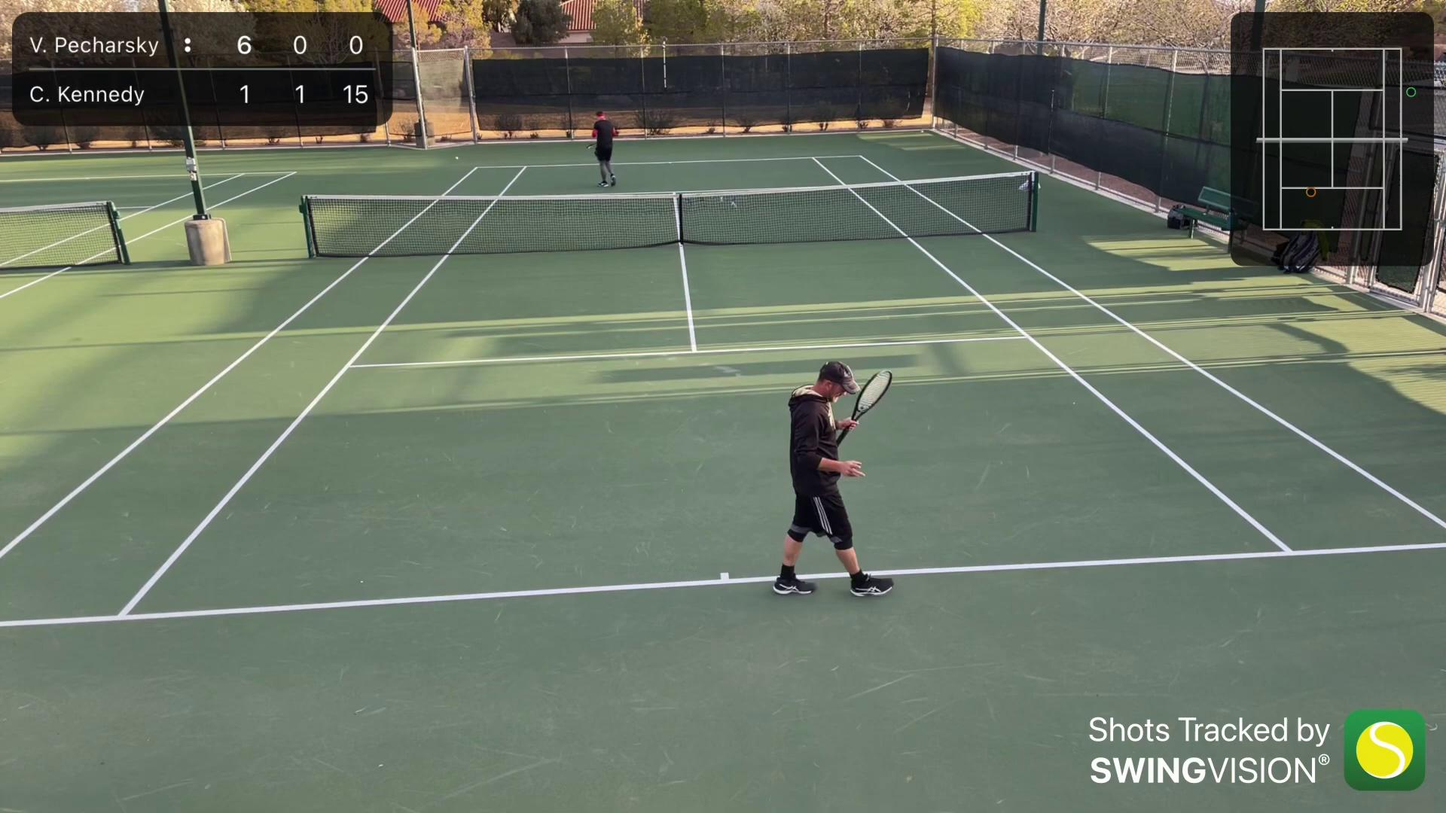ball: (453, 156, 461, 161), (922, 131, 925, 133)
